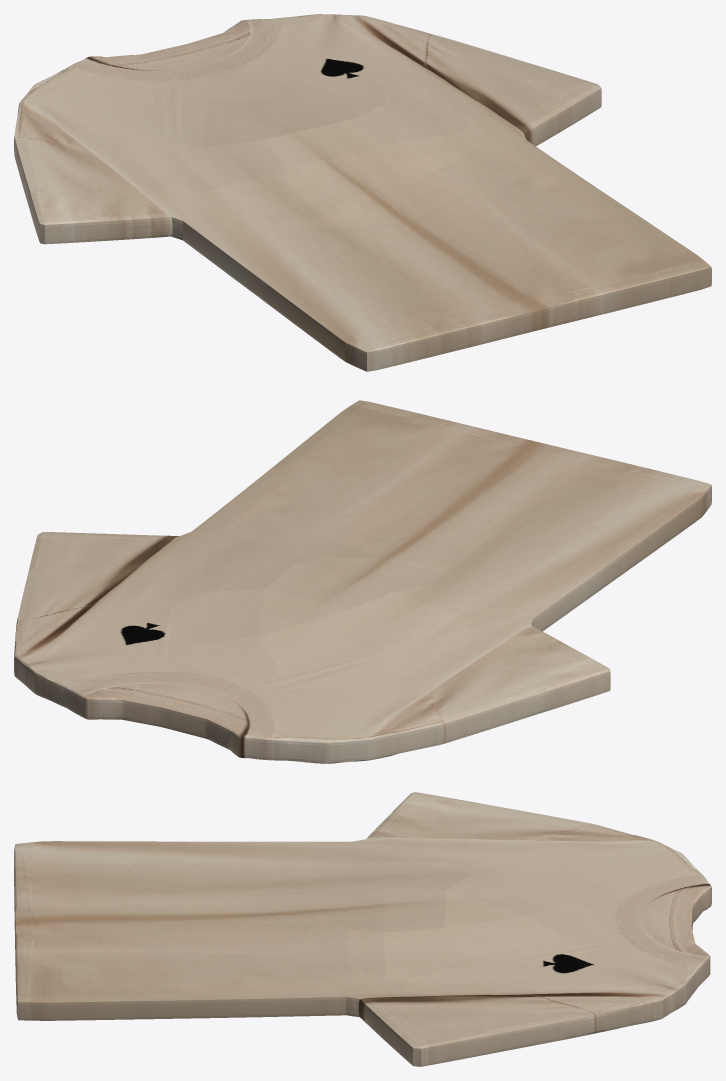
Rendered from tshirttest.fbx.
The picture shows the model from 3 angles, top to bottom: view 1: azimuth 30°, elevation 25°; view 2: azimuth 150°, elevation 25°; view 3: azimuth 270°, elevation 25°; orthographic projection. The views are drawn at different scales.
Visible parts, largest first — view 1: Cube; view 2: Cube; view 3: Cube.
Part boxes in pixels (x1,y1,x2,y2): Cube: (14, 14, 711, 371); Cube: (14, 400, 711, 763); Cube: (14, 792, 711, 1066).
Bounding box in the file's own units: 2.89 × 0.1681 × 3.31.
